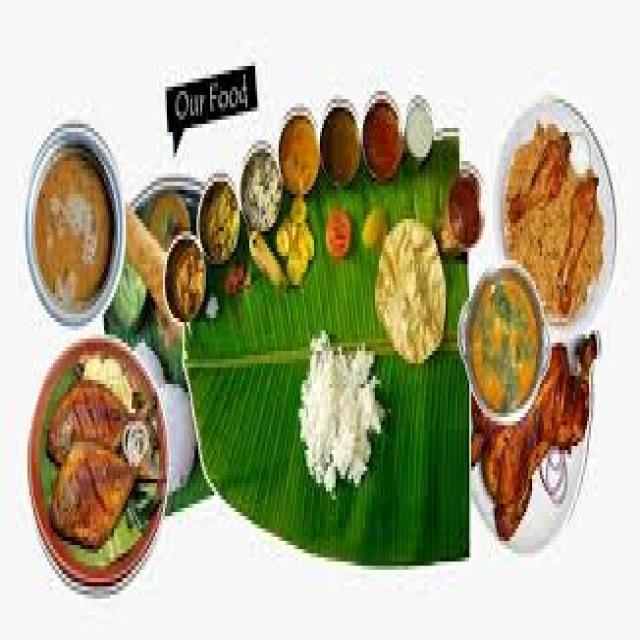pickle: (43, 350, 165, 571), (22, 143, 126, 312), (434, 163, 489, 258)
rice: (289, 331, 394, 505)
roti: (500, 120, 610, 324)
sambar-rasam: (24, 143, 125, 320)
sweet: (23, 142, 126, 314)
veg-fry: (461, 266, 542, 431)
